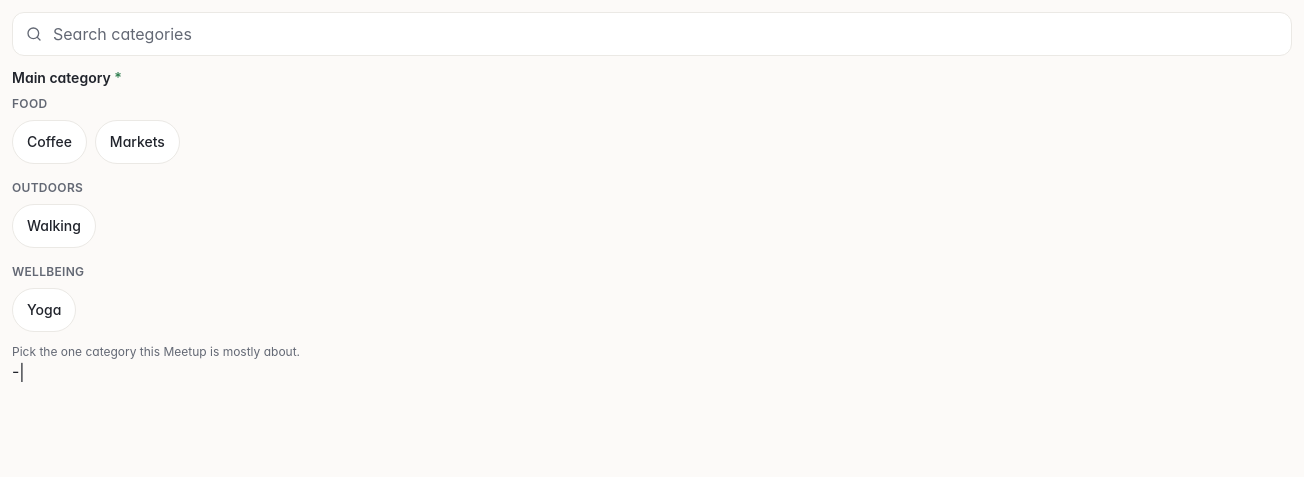
WO-149B — Create Meetup picker semantics › never lets one category be both main and optional
Click the button "Coffee".
click(49, 142)  # box x1=12 y1=120 x2=87 y2=164
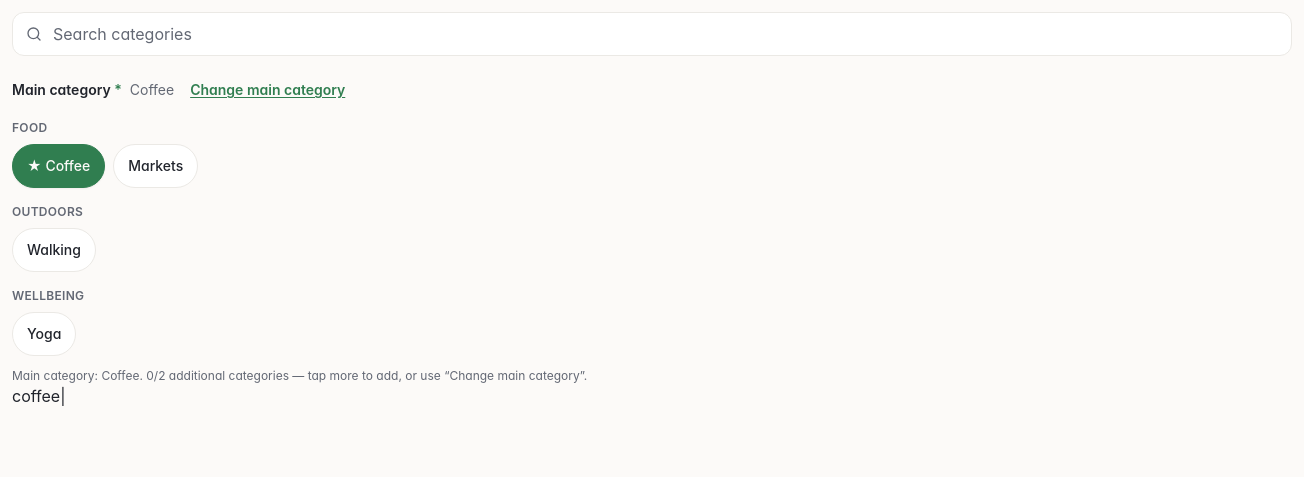
Click the button "Walking".
click(54, 250)  # box x1=12 y1=228 x2=96 y2=272
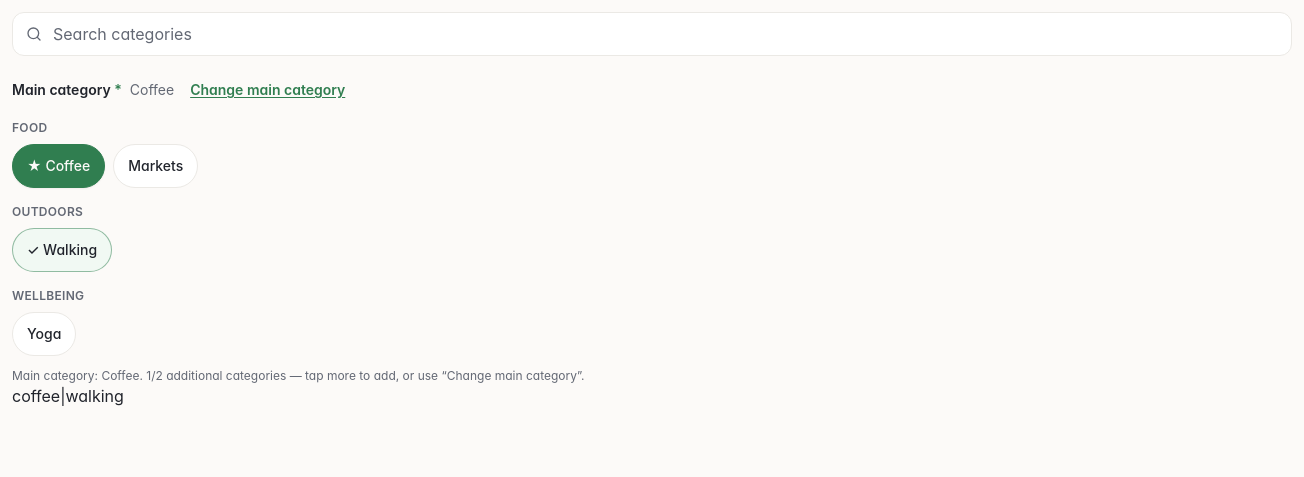
Promote the optional Walking to main via the explicit change flow.
Click the button "Change main category".
click(268, 90)  # box x1=182 y1=68 x2=353 y2=112
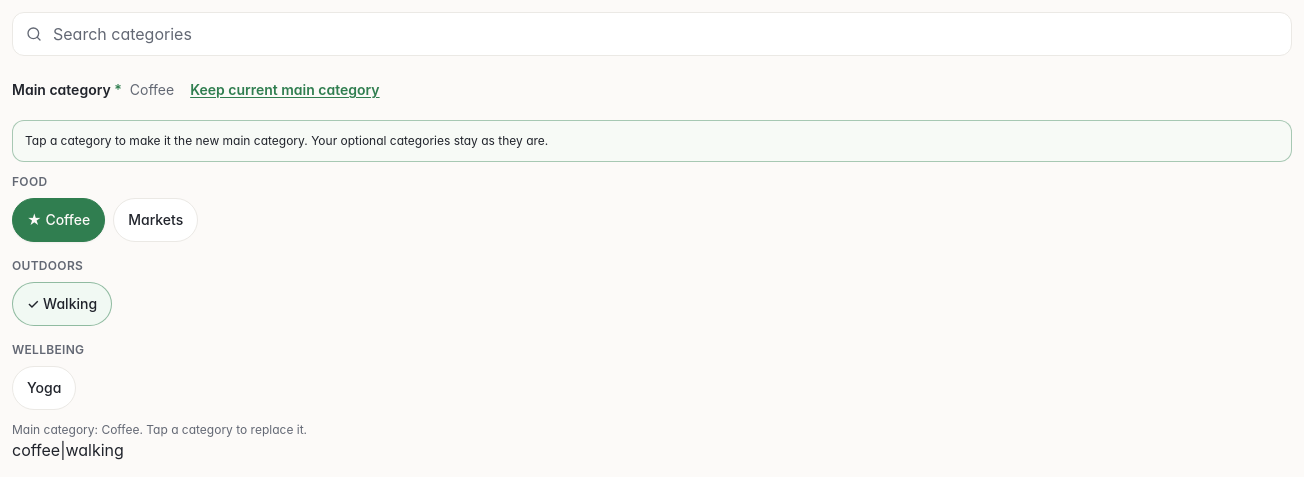
Click the button with aria-label "Walking (additional category)".
click(62, 304)  # box x1=12 y1=282 x2=112 y2=326
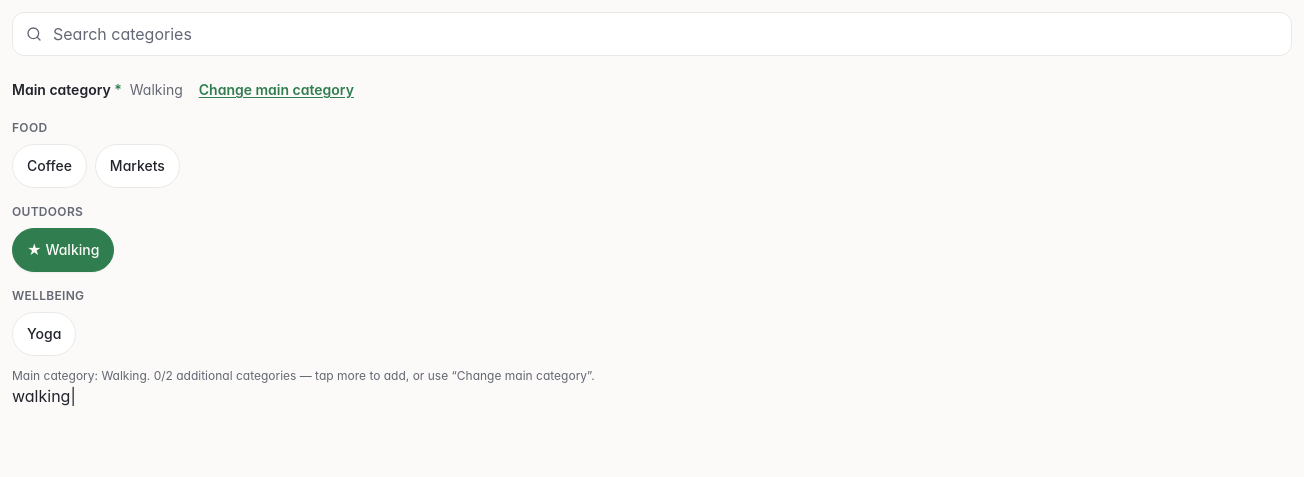
Now the text with test id "draft" reads "walking|", box x1=12 y1=386 x2=76 y2=406
